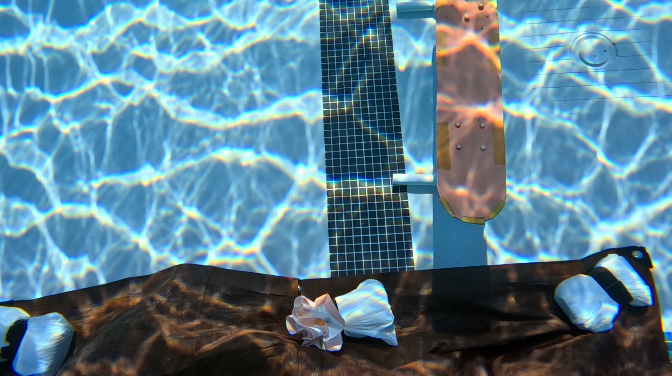pathmarker: (437, 0, 502, 222)
sandbag: (0, 245, 671, 375)
